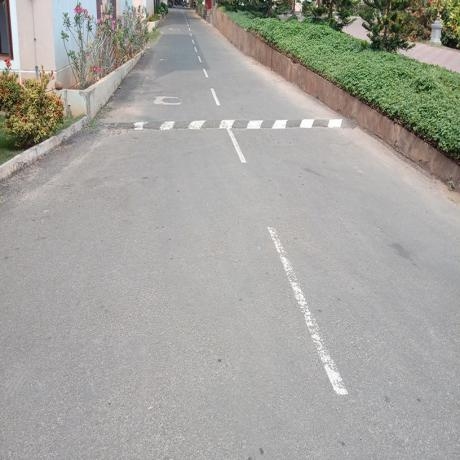Speed Bump: (97, 116, 354, 129)
